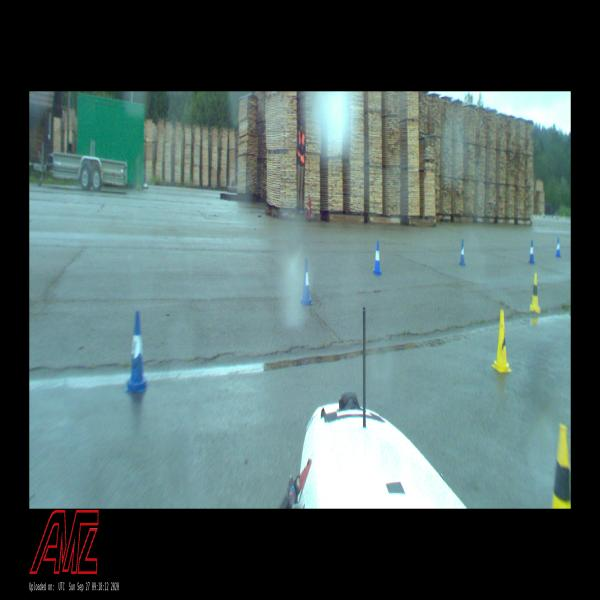blue_cone: (128, 311, 147, 391), (301, 259, 311, 304), (373, 241, 382, 274), (529, 240, 535, 264), (460, 240, 465, 266), (556, 238, 561, 257)
yellow_cone: (552, 425, 570, 508), (494, 310, 509, 372), (530, 273, 540, 313)
